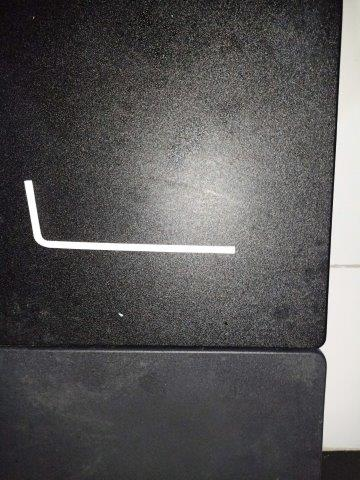sedotan: (24, 180, 235, 254)
